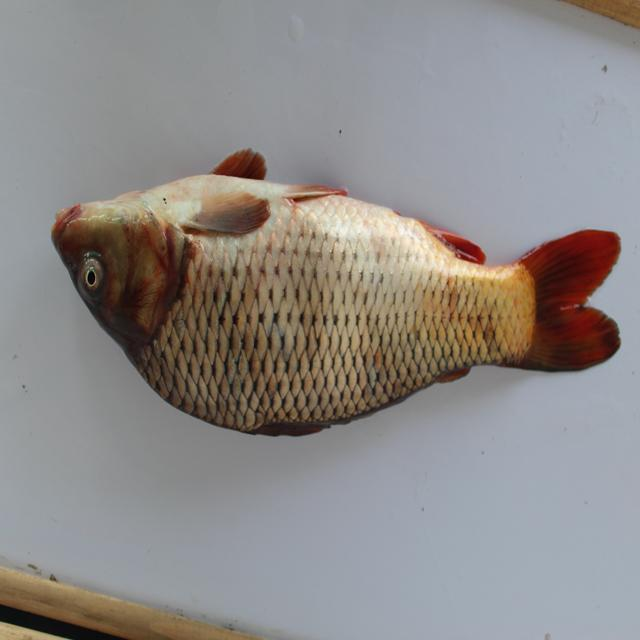CommonCarp: (38, 142, 631, 433)
